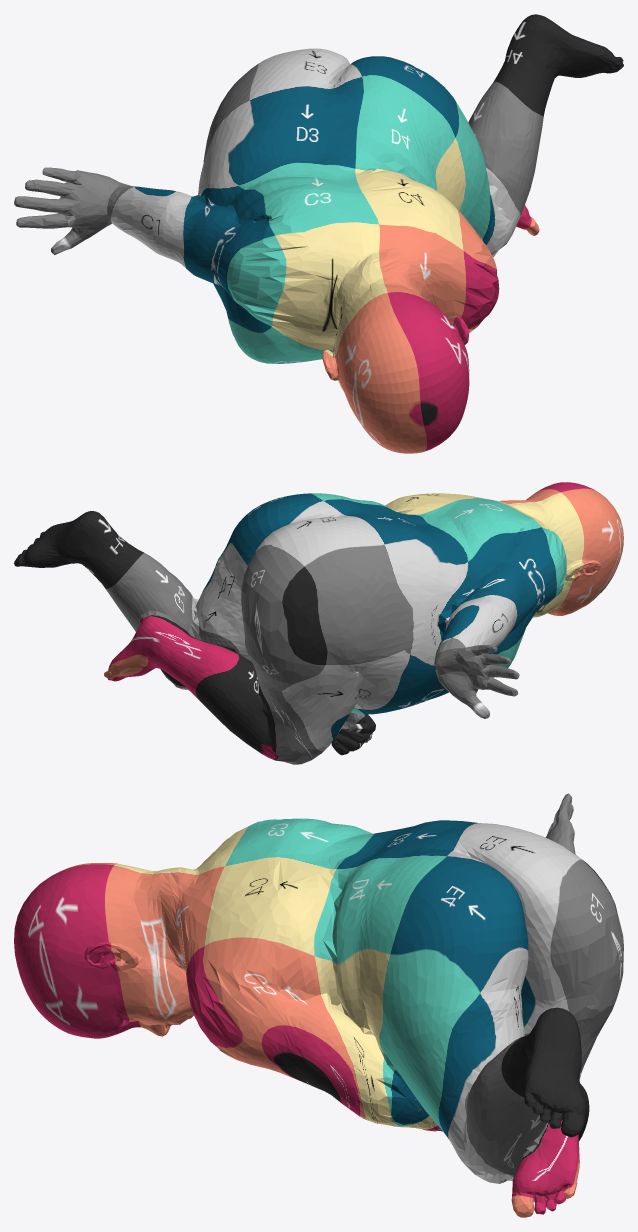
Rendered from kid00-kid12.obj.
3 views of the same model, one above another, from view 1: azimuth 30°, elevation 25°; view 2: azimuth 150°, elevation 25°; view 3: azimuth 270°, elevation 25° (orthographic). The views are drawn at different scales.
Parts seen in each view (by area): view 1: kid00-kid12_export; view 2: kid00-kid12_export; view 3: kid00-kid12_export.
Part boxes in pixels (x1,y1,x2,y2): kid00-kid12_export: [14, 14, 623, 453]; kid00-kid12_export: [14, 482, 623, 764]; kid00-kid12_export: [14, 793, 623, 1217].
Size of the model in its own units: 0.8682 by 0.3926 by 0.7093.
Materials: 1 (1 with a texture image).
